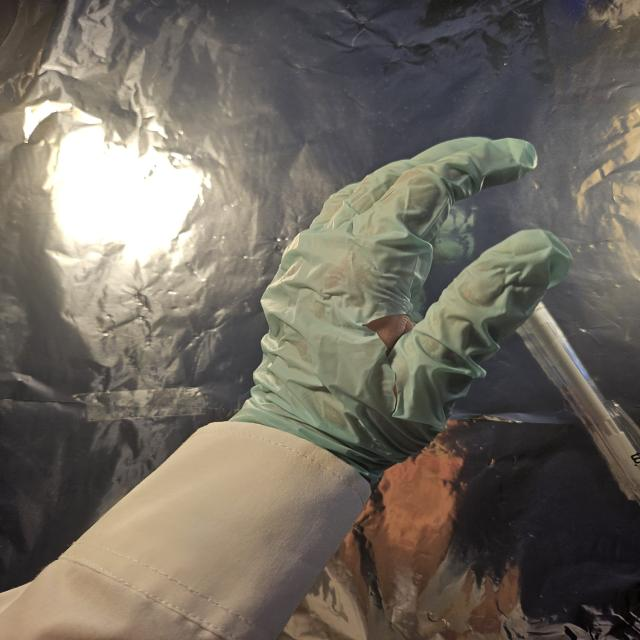gloves_damaged: (239, 133, 572, 480)
